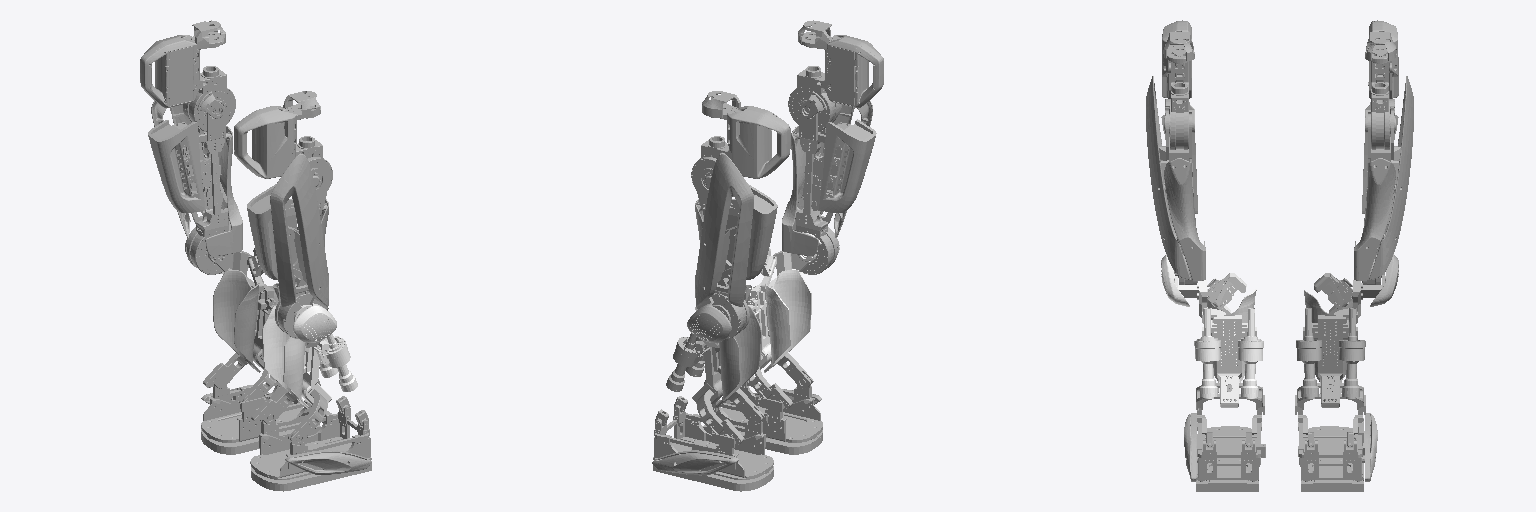
URDF robot description (WSF1_urdf_251213):
<?xml version="1.0" encoding="utf-8"?>
<!-- This URDF was automatically created by SolidWorks to URDF Exporter! Originally created by Stephen Brawner (brawner@gmail.com) 
     Commit Version: 1.6.0-4-g7f85cfe  Build Version: 1.6.7995.38578
     For more information, please see http://wiki.ros.org/sw_urdf_exporter -->
<robot
  name="WSF1_urdf_251213">
  <link
    name="LINK_BASE">
    <inertial>
      <origin
        xyz="0.029974 0.0022594 -0.083255"
        rpy="0 0 0" />
      <mass
        value="12.96244574" />
      <inertia
        ixx="0.050390118"
        ixy="3.70728E-06"
        ixz="-0.003730668"
        iyy="0.024391007"
        iyz="1.90668E-05"
        izz="0.05449426" />
    </inertial>
    <visual>
      <origin
        xyz="0 0 0"
        rpy="0 0 0" />
      <geometry>
        <mesh
          filename="meshes/LINK_BASE.STL" />
      </geometry>
      <material
        name="">
        <color
          rgba="0.89804 0.91765 0.92941 1" />
      </material>
    </visual>
    <collision>
      <origin
        xyz="0 0 0.1"
        rpy="0 0 0" />
      <geometry>
        <box size="0.2 0.3 0.2"/>
      </geometry>
    </collision>
  </link>
  <link
    name="LINK_R_BASE">
    <inertial>
      <origin
        xyz="-0.10831 -0.1273 0.0031732"
        rpy="0 0 0" />
      <mass
        value="5.085" />
      <inertia
        ixx="0.0050166"
        ixy="-0.0010656"
        ixz="-0.00042429"
        iyy="0.0065848"
        iyz="0.00025341"
        izz="0.0079037" />
    </inertial>
    <visual>
      <origin
        xyz="0 0 0"
        rpy="0 0 0" />
      <geometry>
        <mesh
          filename="meshes/LINK_R_BASE.STL" />
      </geometry>
      <material
        name="">
        <color
          rgba="0.75294 0.75294 0.75294 1" />
      </material>
    </visual>
    <collision>
      <origin
        xyz="-0.11 -0.13 0"
        rpy="0 0 0" />
      <geometry>
        <box size="0.1 0.12 0.1"/>
      </geometry>
    </collision>
  </link>
  <joint
    name="JOINT_RH_ABD"
    type="revolute">
    <origin
      xyz="0 -0.115 0"
      rpy="0 0 0" />
    <parent
      link="LINK_BASE" />
    <child
      link="LINK_R_BASE" />
    <axis
      xyz="-1 0 0" />
    <limit
      lower="-0.024533"
      upper="0.2618"
      effort="250"
      velocity="100" />
  </joint>
  <link
    name="LINK_R_HIP">
    <inertial>
      <origin
        xyz="0.14531 0.0035574 0.024895"
        rpy="0 0 0" />
      <mass
        value="4.5941" />
      <inertia
        ixx="0.0057959"
        ixy="3.0497E-05"
        ixz="0.00046328"
        iyy="0.010687"
        iyz="0.00011232"
        izz="0.0063934" />
    </inertial>
    <visual>
      <origin
        xyz="0 0 0"
        rpy="0 0 0" />
      <geometry>
        <mesh
          filename="meshes/LINK_R_HIP.STL" />
      </geometry>
      <material
        name="">
        <color
          rgba="0.75294 0.75294 0.75294 1" />
      </material>
    </visual>
    <collision>
      <origin
        xyz="0.1 0 0"
        rpy="0 0 0" />
      <geometry>
        <box size="0.15 0.08 0.08"/>
      </geometry>
    </collision>
  </link>
  <joint
    name="JOINT_RH_ROT"
    type="revolute">
    <origin
      xyz="-0.246 -0.155 0.0018"
      rpy="3.1416 1.5708 0" />
    <parent
      link="LINK_R_BASE" />
    <child
      link="LINK_R_HIP" />
    <axis
      xyz="1 0 0" />
    <limit
      lower="-0.2618"
      upper="0.2618"
      effort="135"
      velocity="100" />
  </joint>
  <link
    name="LINK_R_THIGH">
    <inertial>
      <origin
        xyz="0.0368868732958345 -0.207996755937189 -0.0524826364794933"
        rpy="0 0 0" />
      <mass
        value="6.36094365096139" />
      <inertia
        ixx="0.0444769342985131"
        ixy="0.00332438043092983"
        ixz="-0.000459504509077707"
        iyy="0.00858660837820035"
        iyz="0.00322175639157632"
        izz="0.0396785442084487" />
    </inertial>
    <visual>
      <origin
        xyz="0 0 0"
        rpy="0 0 0" />
      <geometry>
        <mesh
          filename="meshes/LINK_R_THIGH.STL" />
      </geometry>
      <material
        name="">
        <color
          rgba="0.752941176470588 0.752941176470588 0.752941176470588 1" />
      </material>
    </visual>
    <collision>
      <origin
        xyz="0.025 -0.215 -0.05"
        rpy="1.5708 0 0" />
      <geometry>
        <cylinder radius="0.04" length="0.43"/>
      </geometry>
    </collision>
  </link>
  <joint
    name="JOINT_RH_EXT"
    type="revolute">
    <origin
      xyz="0.1928 0.03191 0"
      rpy="-3.1416 0 -1.5708" />
    <parent
      link="LINK_R_HIP" />
    <child
      link="LINK_R_THIGH" />
    <axis
      xyz="-1 0 0" />
    <limit
      lower="-0.5236"
      upper="1.9548"
      effort="200"
      velocity="100" />
  </joint>
  <link
    name="LINK_R_SHANK">
    <inertial>
      <origin
        xyz="0.112718934941364 -0.146270523951628 0.100475947112412"
        rpy="0 0 0" />
      <mass
        value="5.17275490301273" />
      <inertia
        ixx="0.0125334950938828"
        ixy="0.000974218719191159"
        ixz="-0.000780380239258803"
        iyy="0.00493247953645491"
        iyz="0.00204132577013602"
        izz="0.0125165800288326" />
    </inertial>
    <visual>
      <origin
        xyz="0 0 0"
        rpy="0 0 0" />
      <geometry>
        <mesh
          filename="meshes/LINK_R_SHANK.STL" />
      </geometry>
      <material
        name="">
        <color
          rgba="1 1 1 1" />
      </material>
    </visual>
    <collision>
      <origin
        xyz="0.13 -0.175 0.11"
        rpy="1.5708 0 0" />
      <geometry>
        <cylinder radius="0.04" length="0.30"/>
      </geometry>
    </collision>
  </link>
  <joint
    name="JOINT_RK_EXT"
    type="revolute">
    <origin
      xyz="0.024985 -0.43072 -0.009"
      rpy="0 0 0" />
    <parent
      link="LINK_R_THIGH" />
    <child
      link="LINK_R_SHANK" />
    <axis
      xyz="1 0 0" />
    <limit
      lower="0"
      upper="2.0944"
      effort="200"
      velocity="100" />
  </joint>
  <link
    name="LINK_R_ANK">
    <inertial>
      <origin
        xyz="0.00423240627128638 0.00311261751998293 -0.07121602354103"
        rpy="0 0 0" />
      <mass
        value="0.664609131352117" />
      <inertia
        ixx="0.00160485767955418"
        ixy="-0.000142401870524177"
        ixz="0.000429285382246394"
        iyy="0.00401204236754498"
        iyz="0.000164249545684694"
        izz="0.00270368873191066" />
    </inertial>
    <visual>
      <origin
        xyz="0 0 0"
        rpy="0 0 0" />
      <geometry>
        <mesh
          filename="meshes/LINK_R_ANK.STL" />
      </geometry>
      <material
        name="">
        <color
          rgba="0.752941176470588 0.752941176470588 0.752941176470588 1" />
      </material>
    </visual>
    <collision>
      <origin
        xyz="-0.02 0 -0.085"
        rpy="0 0 0" />
      <geometry>
        <box size="0.08 0.06 0.15"/>
      </geometry>
    </collision>
  </link>
  <joint
    name="JOINT_RA_INV"
    type="revolute">
    <origin
      xyz="0.14041 -0.30325 0.12166"
      rpy="-0.69813 0 0" />
    <parent
      link="LINK_R_SHANK" />
    <child
      link="LINK_R_ANK" />
    <axis
      xyz="0 0 -1" />
    <limit
      lower="-0.2618"
      upper="0.17453"
      effort="70"
      velocity="100" />
  </joint>
  <link
    name="LINK_R_FOOT">
    <inertial>
      <origin
        xyz="0.0992393928077464 0.000281204678944547 -0.101719995409983"
        rpy="0 0 0" />
      <mass
        value="4.86857663656343" />
      <inertia
        ixx="0.010013172042419"
        ixy="7.45564564080282E-05"
        ixz="0.000304665480190436"
        iyy="0.0277478089087421"
        iyz="-5.24012953541341E-05"
        izz="0.0365917165801108" />
    </inertial>
    <visual>
      <origin
        xyz="0 0 0"
        rpy="0 0 0" />
      <geometry>
        <mesh
          filename="meshes/LINK_R_FOOT.STL" />
      </geometry>
      <material
        name="">
        <color
          rgba="0.752941176470588 0.752941176470588 0.752941176470588 1" />
      </material>
    </visual>
    <collision>
      <origin
        xyz="0.075 0 -0.1035"
        rpy="0 0 0" />
      <geometry>
        <box size="0.32 0.17 0.1"/>
      </geometry>
    </collision>
  </link>
  <joint
    name="JOINT_RA_PLA_foot"
    type="revolute">
    <origin
      xyz="-0.005 0 -0.148"
      rpy="0 -0.87266 -1.5708" />
    <parent
      link="LINK_R_ANK" />
    <child
      link="LINK_R_FOOT" />
    <axis
      xyz="0 -1 0" />
    <limit
      lower="-0.5236"
      upper="0.34907"
      effort="170"
      velocity="100" />
  </joint>
  <link
    name="LINK_L_BASE">
    <inertial>
      <origin
        xyz="-0.10831 0.1273 0.0031732"
        rpy="0 0 0" />
      <mass
        value="5.085" />
      <inertia
        ixx="0.0050166"
        ixy="0.0010656"
        ixz="-0.00042429"
        iyy="0.0065848"
        iyz="-0.00025341"
        izz="0.0079037" />
    </inertial>
    <visual>
      <origin
        xyz="0 0 0"
        rpy="0 0 0" />
      <geometry>
        <mesh
          filename="meshes/LINK_L_BASE.STL" />
      </geometry>
      <material
        name="">
        <color
          rgba="1 1 1 1" />
      </material>
    </visual>
    <collision>
      <origin
        xyz="-0.11 0.13 0"
        rpy="0 0 0" />
      <geometry>
        <box size="0.1 0.12 0.1"/>
      </geometry>
    </collision>
  </link>
  <joint
    name="JOINT_LH_ABD"
    type="revolute">
    <origin
      xyz="0 0.115 0"
      rpy="0 0 0" />
    <parent
      link="LINK_BASE" />
    <child
      link="LINK_L_BASE" />
    <axis
      xyz="1 0 0" />
    <limit
      lower="-0.024533"
      upper="0.2618"
      effort="250"
      velocity="100" />
  </joint>
  <link
    name="LINK_L_HIP">
    <inertial>
      <origin
        xyz="0.14507 -0.0029077 0.024925"
        rpy="0 0 0" />
      <mass
        value="4.5862" />
      <inertia
        ixx="0.0057977"
        ixy="-2.7569E-05"
        ixz="0.00046419"
        iyy="0.01068"
        iyz="-0.00011768"
        izz="0.0063916" />
    </inertial>
    <visual>
      <origin
        xyz="0 0 0"
        rpy="0 0 0" />
      <geometry>
        <mesh
          filename="meshes/LINK_L_HIP.STL" />
      </geometry>
      <material
        name="">
        <color
          rgba="0.75294 0.75294 0.75294 1" />
      </material>
    </visual>
    <collision>
      <origin
        xyz="0.1 0 0"
        rpy="0 0 0" />
      <geometry>
        <box size="0.15 0.08 0.08"/>
      </geometry>
    </collision>
  </link>
  <joint
    name="JOINT_LH_ROT"
    type="revolute">
    <origin
      xyz="-0.246 0.155 0.0018"
      rpy="3.1416 1.5708 0" />
    <parent
      link="LINK_L_BASE" />
    <child
      link="LINK_L_HIP" />
    <axis
      xyz="-1 0 0" />
    <limit
      lower="-0.2618"
      upper="0.2618"
      effort="135"
      velocity="100" />
  </joint>
  <link
    name="LINK_L_THIGH">
    <inertial>
      <origin
        xyz="-0.03646 -0.20974 -0.052508"
        rpy="0 0 0" />
      <mass
        value="6.4329" />
      <inertia
        ixx="0.044977"
        ixy="-0.0033616"
        ixz="0.00046997"
        iyy="0.0087229"
        iyz="0.0033389"
        izz="0.040048" />
    </inertial>
    <visual>
      <origin
        xyz="0 0 0"
        rpy="0 0 0" />
      <geometry>
        <mesh
          filename="meshes/LINK_L_THIGH.STL" />
      </geometry>
      <material
        name="">
        <color
          rgba="0.75294 0.75294 0.75294 1" />
      </material>
    </visual>
    <collision>
      <origin
        xyz="-0.04 -0.21 -0.05"
        rpy="1.5708 0 0" />
      <geometry>
        <cylinder radius="0.04" length="0.43"/>
      </geometry>
    </collision>
  </link>
  <joint
    name="JOINT_LH_EXT"
    type="revolute">
    <origin
      xyz="0.1928 -0.03191 0"
      rpy="-3.1416 0 -1.5708" />
    <parent
      link="LINK_L_HIP" />
    <child
      link="LINK_L_THIGH" />
    <axis
      xyz="-1 0 0" />
    <limit
      lower="-0.5236"
      upper="1.9548"
      effort="200"
      velocity="100" />
  </joint>
  <link
    name="LINK_L_SHANK">
    <inertial>
      <origin
        xyz="-0.11272 -0.14623 0.10149"
        rpy="0 0 0" />
      <mass
        value="5.0344" />
      <inertia
        ixx="0.01248"
        ixy="-0.0009717"
        ixz="0.00077406"
        iyy="0.0048765"
        iyz="0.0020338"
        izz="0.012482" />
    </inertial>
    <visual>
      <origin
        xyz="0 0 0"
        rpy="0 0 0" />
      <geometry>
        <mesh
          filename="meshes/LINK_L_SHANK.STL" />
      </geometry>
      <material
        name="">
        <color
          rgba="0.75294 0.75294 0.75294 1" />
      </material>
    </visual>
    <collision>
      <origin
        xyz="-0.13 -0.175 0.11"
        rpy="1.5708 0 0" />
      <geometry>
        <cylinder radius="0.04" length="0.30"/>
      </geometry>
    </collision>
  </link>
  <joint
    name="JOINT_LK_EXT"
    type="revolute">
    <origin
      xyz="-0.024985 -0.43072 -0.009"
      rpy="0 0 0" />
    <parent
      link="LINK_L_THIGH" />
    <child
      link="LINK_L_SHANK" />
    <axis
      xyz="1 0 0" />
    <limit
      lower="0"
      upper="2.0944"
      effort="200"
      velocity="100" />
  </joint>
  <link
    name="LINK_L_ANK">
    <inertial>
      <origin
        xyz="0.0042324062712826 0.00311261752178338 -0.0712160235431643"
        rpy="0 0 0" />
      <mass
        value="0.664609131352115" />
      <inertia
        ixx="0.00160485767955418"
        ixy="-0.000142401870524173"
        ixz="0.000429285382246392"
        iyy="0.00401204236754498"
        iyz="0.000164249545684692"
        izz="0.00270368873191066" />
    </inertial>
    <visual>
      <origin
        xyz="0 0 0"
        rpy="0 0 0" />
      <geometry>
        <mesh
          filename="meshes/LINK_L_ANK.STL" />
      </geometry>
      <material
        name="">
        <color
          rgba="0.752941176470588 0.752941176470588 0.752941176470588 1" />
      </material>
    </visual>
    <collision>
      <origin
        xyz="0.02 0 -0.085"
        rpy="0 0 0" />
      <geometry>
        <box size="0.08 0.06 0.15"/>
      </geometry>
    </collision>
  </link>
  <joint
    name="JOINT_LA_INV"
    type="revolute">
    <origin
      xyz="-0.14041 -0.30325 0.12166"
      rpy="-0.69813 0 0" />
    <parent
      link="LINK_L_SHANK" />
    <child
      link="LINK_L_ANK" />
    <axis
      xyz="0 0 1" />
    <limit
      lower="-0.2618"
      upper="0.17453"
      effort="70"
      velocity="100" />
  </joint>
  <link
    name="LINK_L_FOOT">
    <inertial>
      <origin
        xyz="0.0975032481137334 0.00106234064658997 -0.10057028069399"
        rpy="0 0 0" />
      <mass
        value="4.8840608021092" />
      <inertia
        ixx="0.0100204998920602"
        ixy="-7.38781423950471E-05"
        ixz="0.00030265960046035"
        iyy="0.0277869544426075"
        iyz="5.30885313160167E-05"
        izz="0.036617007557701" />
    </inertial>
    <visual>
      <origin
        xyz="0 0 0"
        rpy="0 0 0" />
      <geometry>
        <mesh
          filename="meshes/LINK_L_FOOT.STL" />
      </geometry>
      <material
        name="">
        <color
          rgba="0.752941176470588 0.752941176470588 0.752941176470588 1" />
      </material>
    </visual>
    <collision>
      <origin
        xyz="0.075 0 -0.1035"
        rpy="0 0 0" />
      <geometry>
        <box size="0.32 0.17 0.1"/>
      </geometry>
    </collision>
  </link>
  <joint
    name="JOINT_LA_PLA_foot"
    type="revolute">
    <origin
      xyz="0.005 0 -0.148"
      rpy="0 -0.87266 -1.5708" />
    <parent
      link="LINK_L_ANK" />
    <child
      link="LINK_L_FOOT" />
    <axis
      xyz="0 -1 0" />
    <limit
      lower="-0.5236"
      upper="0.34907"
      effort="170"
      velocity="100" />
  </joint>
</robot>

--- Facts derived from the render (not from the file) ---
Views: 3 orthographic renders of the robot side by side, from view 1: azimuth 30°, elevation 25°; view 2: azimuth 150°, elevation 25°; view 3: azimuth 270°, elevation 25°.
Robot: WSF1_urdf_251213 — 13 links, 12 joints (12 revolute); root link LINK_BASE; default pose: every joint at zero.
Links seen in each view (by area): view 1: LINK_L_THIGH, LINK_R_THIGH, LINK_R_FOOT, LINK_L_HIP, LINK_R_SHANK, LINK_R_HIP, LINK_L_SHANK, LINK_L_FOOT, LINK_R_ANK, LINK_L_ANK; view 2: LINK_R_THIGH, LINK_L_THIGH, LINK_L_FOOT, LINK_R_HIP, LINK_L_SHANK, LINK_L_HIP, LINK_R_SHANK, LINK_R_FOOT, LINK_L_ANK, LINK_R_ANK; view 3: LINK_R_SHANK, LINK_L_SHANK, LINK_R_THIGH, LINK_L_THIGH, LINK_L_FOOT, LINK_R_FOOT, LINK_R_HIP, LINK_L_HIP.
Boxes of the visible links, x1,y1,x2,y2 form: LINK_L_THIGH: [148, 100, 242, 274]; LINK_R_THIGH: [247, 154, 328, 338]; LINK_R_FOOT: [250, 396, 371, 491]; LINK_L_HIP: [140, 20, 235, 131]; LINK_R_SHANK: [262, 303, 357, 408]; LINK_R_HIP: [234, 91, 332, 190]; LINK_L_SHANK: [185, 246, 279, 372]; LINK_L_FOOT: [201, 379, 320, 454]; LINK_R_ANK: [251, 389, 327, 444]; LINK_L_ANK: [203, 353, 275, 402]; LINK_R_THIGH: [782, 100, 876, 274]; LINK_L_THIGH: [695, 154, 777, 338]; LINK_L_FOOT: [652, 396, 773, 491]; LINK_R_HIP: [788, 20, 883, 130]; LINK_L_SHANK: [666, 303, 761, 408]; LINK_L_HIP: [691, 91, 790, 190]; LINK_R_SHANK: [745, 232, 839, 372]; LINK_R_FOOT: [703, 374, 822, 454]; LINK_L_ANK: [697, 388, 764, 444]; LINK_R_ANK: [749, 353, 813, 408]; LINK_R_SHANK: [1161, 254, 1263, 407]; LINK_L_SHANK: [1296, 254, 1398, 407]; LINK_R_THIGH: [1146, 76, 1205, 284]; LINK_L_THIGH: [1354, 76, 1413, 284]; LINK_L_FOOT: [1295, 395, 1377, 491]; LINK_R_FOOT: [1184, 395, 1265, 491]; LINK_R_HIP: [1162, 20, 1194, 149]; LINK_L_HIP: [1365, 20, 1398, 149].
Bounding box of the posed robot: 0.4727 × 0.7233 × 1.24 m (x, y, z).
Meshes: 13 distinct files referenced, 10 mesh visuals loaded (10 binary STL); not drawn: 3 (reference not matched to a file when rendering).
